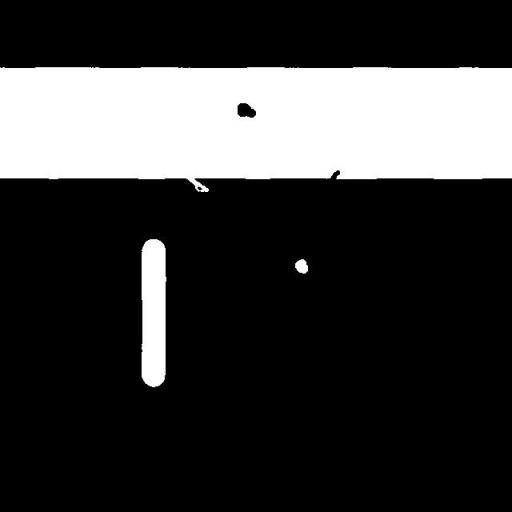copper: (230, 95, 263, 125)
mousebite: (178, 166, 216, 200)
pin-hole: (287, 251, 315, 281)
spur: (318, 162, 348, 190)
